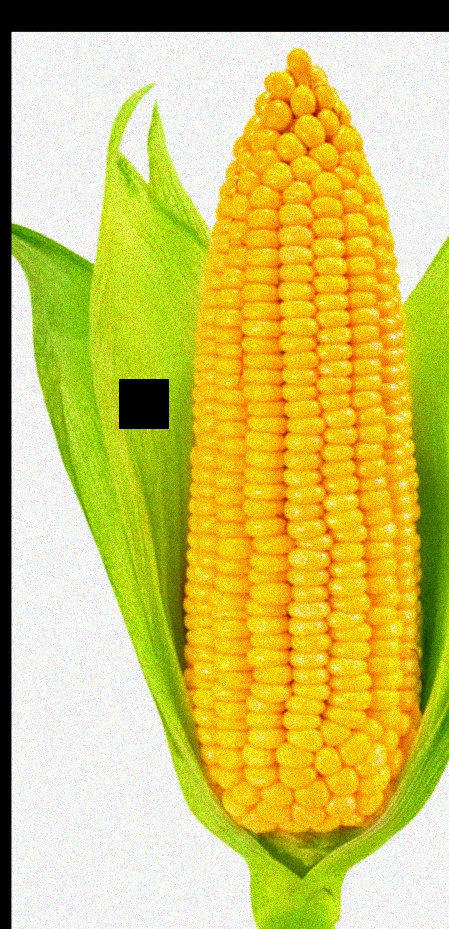corn: (164, 36, 419, 863)
